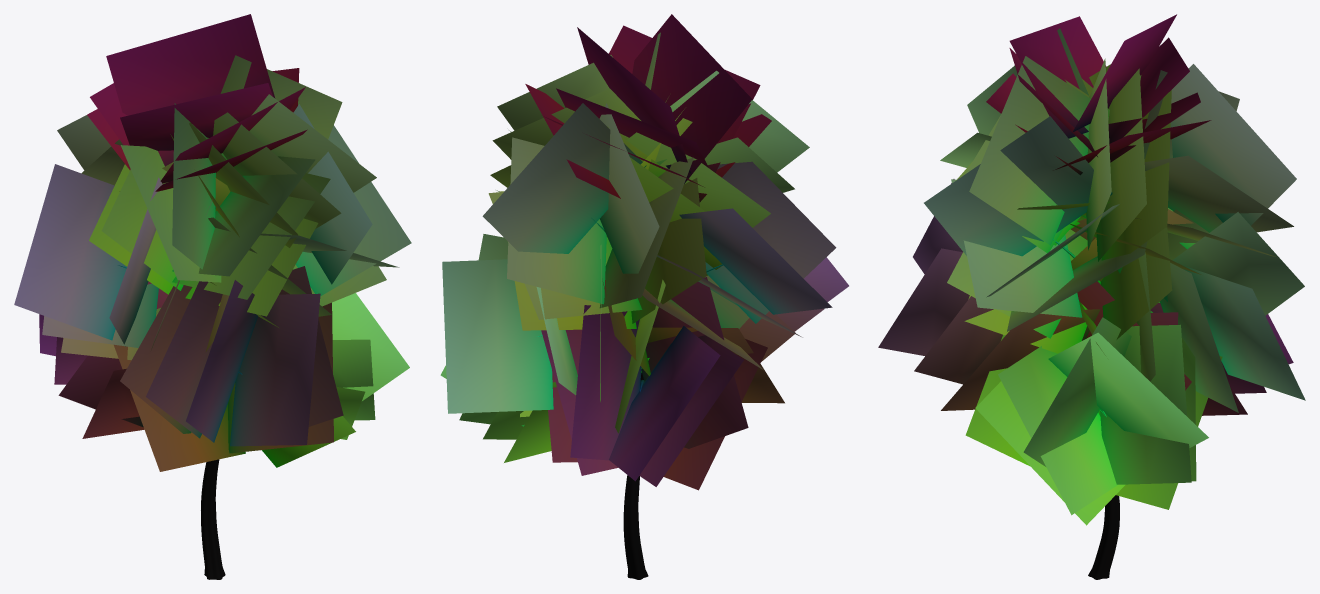
The model's file is URP_P15_Tree_2_LOD_0.fbx.
3 views of the same model, side by side, from view 1: azimuth 30°, elevation 25°; view 2: azimuth 150°, elevation 25°; view 3: azimuth 270°, elevation 25° (orthographic). The views are drawn at different scales.
Parts seen in each view (by area): view 1: Tree_2_LOD_0; view 2: Tree_2_LOD_0; view 3: Tree_2_LOD_0.
Part boxes in pixels (x1,y1,x2,y2): Tree_2_LOD_0: [14, 14, 411, 579]; Tree_2_LOD_0: [440, 14, 848, 579]; Tree_2_LOD_0: [878, 14, 1305, 579].
Size of the model in its own units: 508 by 740 by 513.
